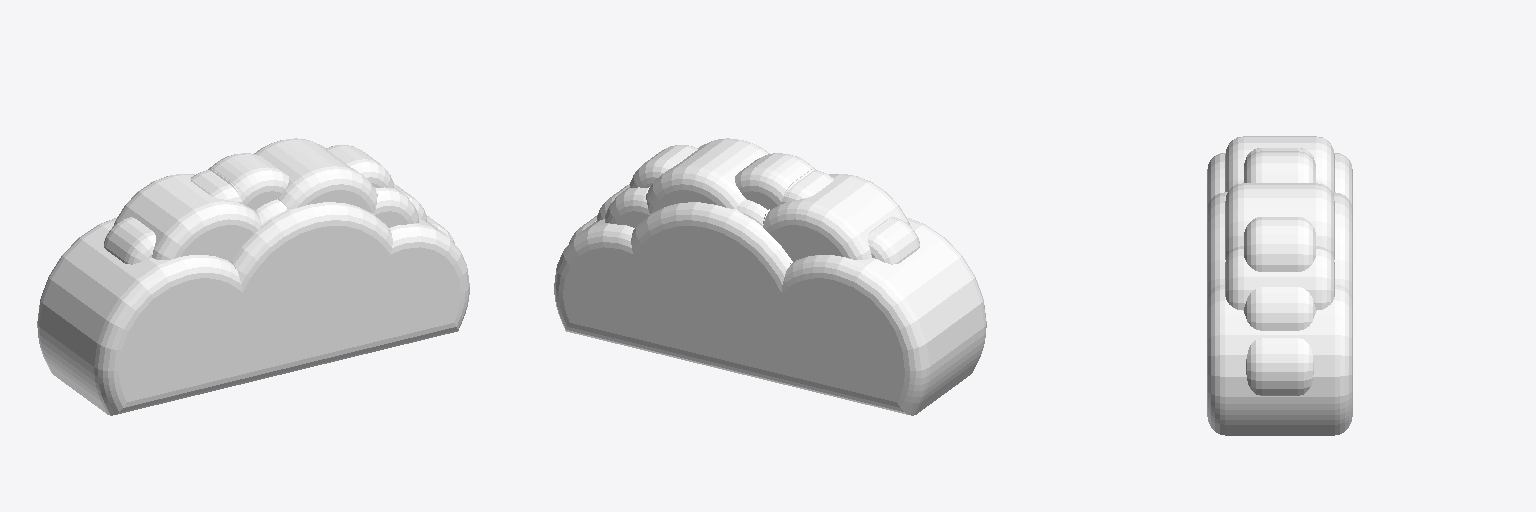
File: pilvi.obj
3 views of the same model, side by side, from view 1: azimuth 30°, elevation 25°; view 2: azimuth 150°, elevation 25°; view 3: azimuth 270°, elevation 25° (orthographic).
Parts seen in each view (by area): view 1: Curve.001; view 2: Curve.001; view 3: Curve.001.
Boxes of the visible parts, <box> form: Curve.001: <box>37,138,469,415</box>; Curve.001: <box>554,138,986,415</box>; Curve.001: <box>1207,136,1352,435</box>.
Bounding box in the file's own units: 1.19 × 0.5779 × 0.3972.